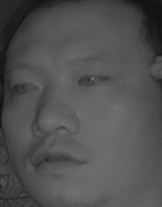eye: (75, 67, 111, 90), (9, 77, 40, 97)
mouth: (27, 139, 88, 175)
